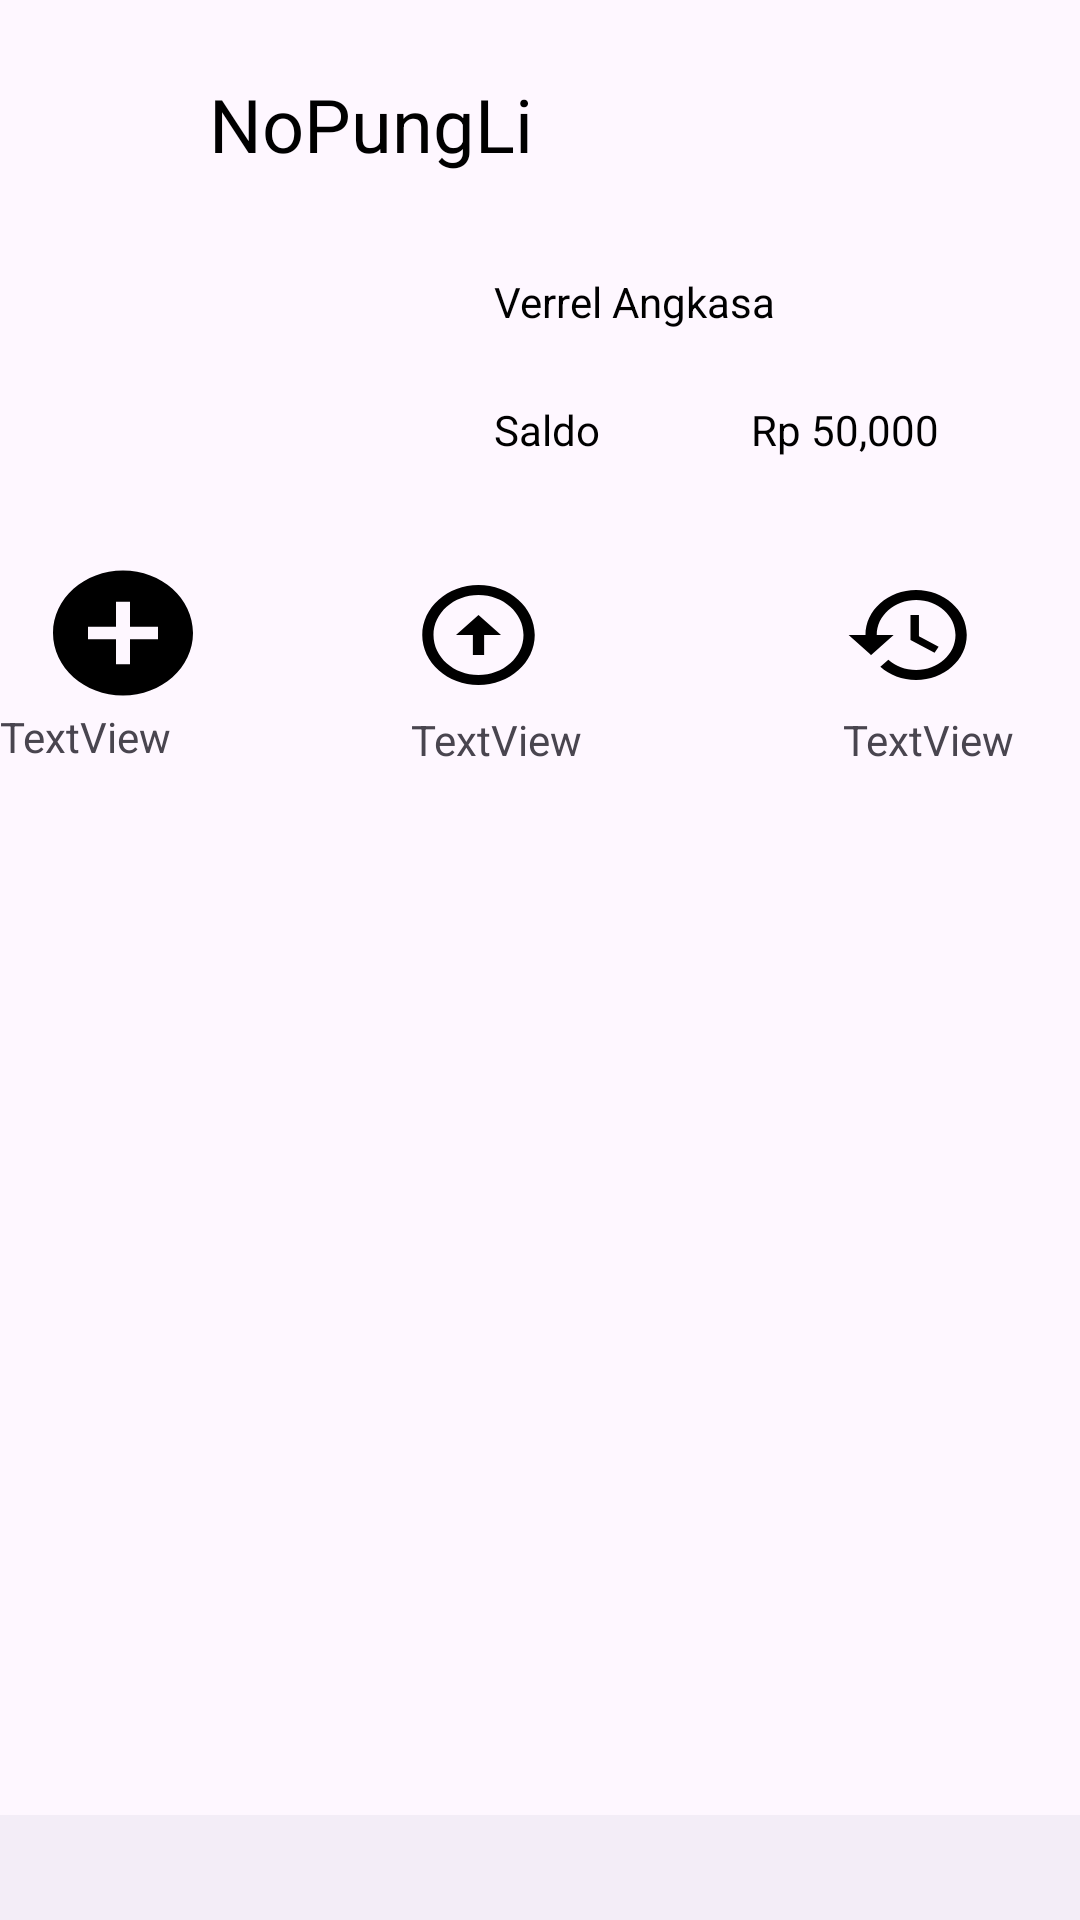

Named icons in this screenshot (1080 x 1920) and their centers, [x,y]:
history: [908,635]
topup: [123,633]
transfer: [478,635]
